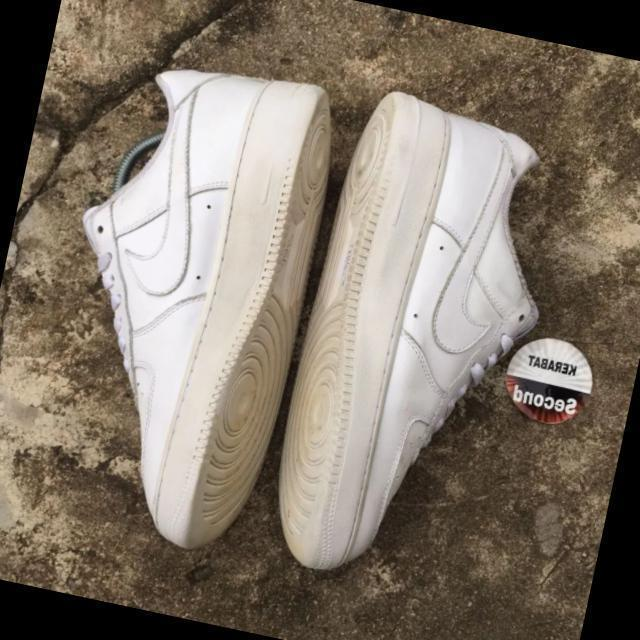nike original air force: (250, 85, 588, 614), (17, 37, 356, 557)
